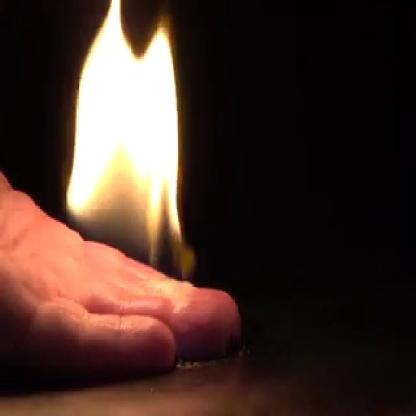fire: (61, 0, 196, 275)
